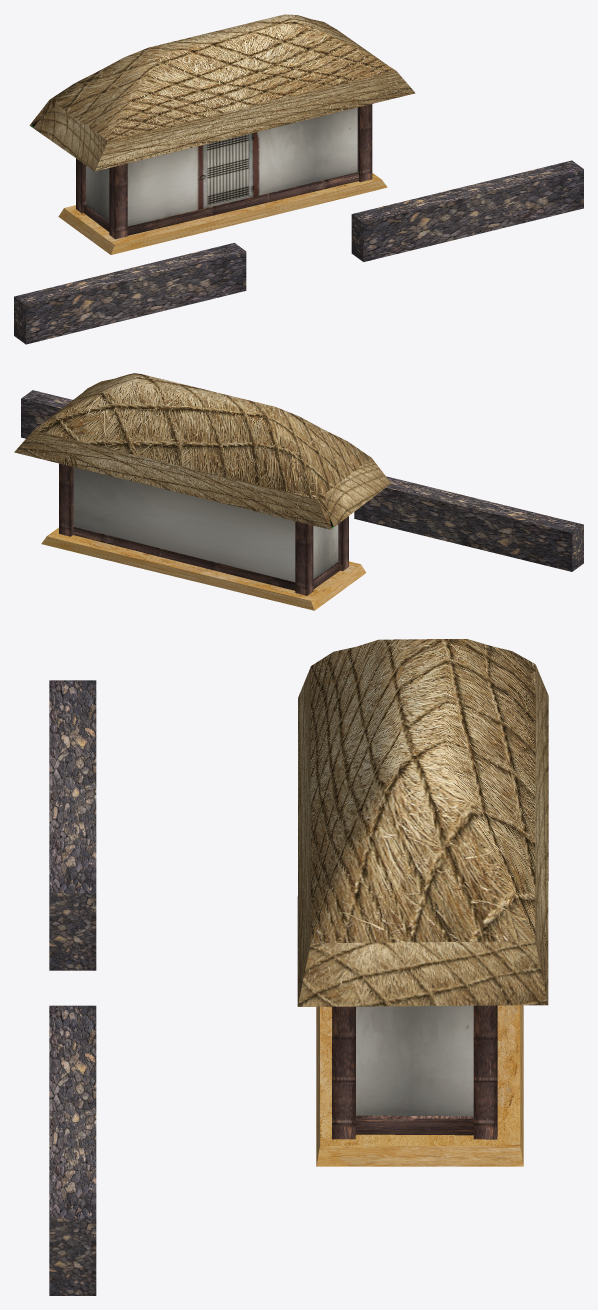
The model's file is house2.FBX.
The picture shows the model from 3 angles, top to bottom: view 1: azimuth 30°, elevation 25°; view 2: azimuth 150°, elevation 25°; view 3: azimuth 270°, elevation 25°; orthographic projection. The views are drawn at different scales.
Parts seen in each view (by area): view 1: Box099, fence1, fence2; view 2: Box099, fence2, fence1; view 3: Box099, fence2, fence1.
Boxes of the visible parts, x1,y1,x2,y2 form: Box099: (29, 14, 415, 254); fence1: (351, 160, 583, 261); fence2: (14, 243, 246, 344); Box099: (14, 373, 391, 610); fence2: (354, 476, 583, 571); fence1: (21, 390, 72, 438); Box099: (297, 639, 548, 1166); fence2: (49, 680, 96, 970); fence1: (49, 1005, 96, 1295).
Size of the model in its own units: 1060 by 307 by 416.
